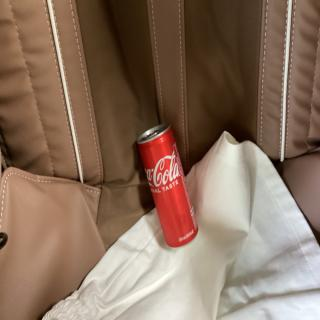cocacola: (134, 118, 204, 254)
